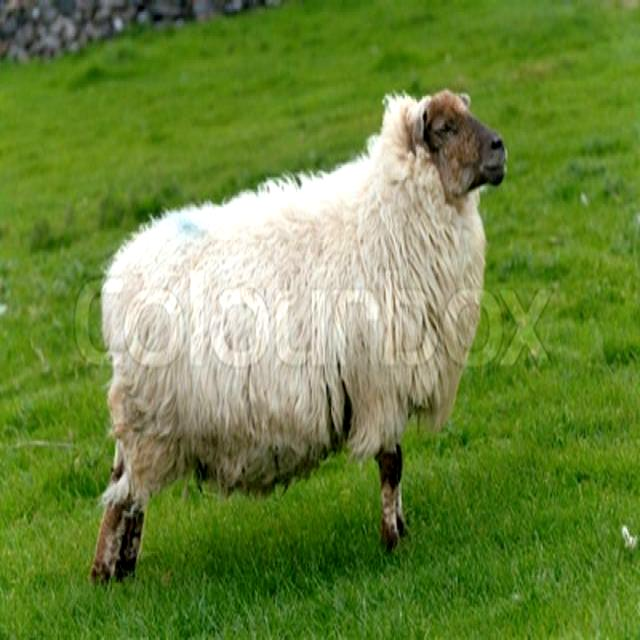sheep: (91, 92, 508, 582)
